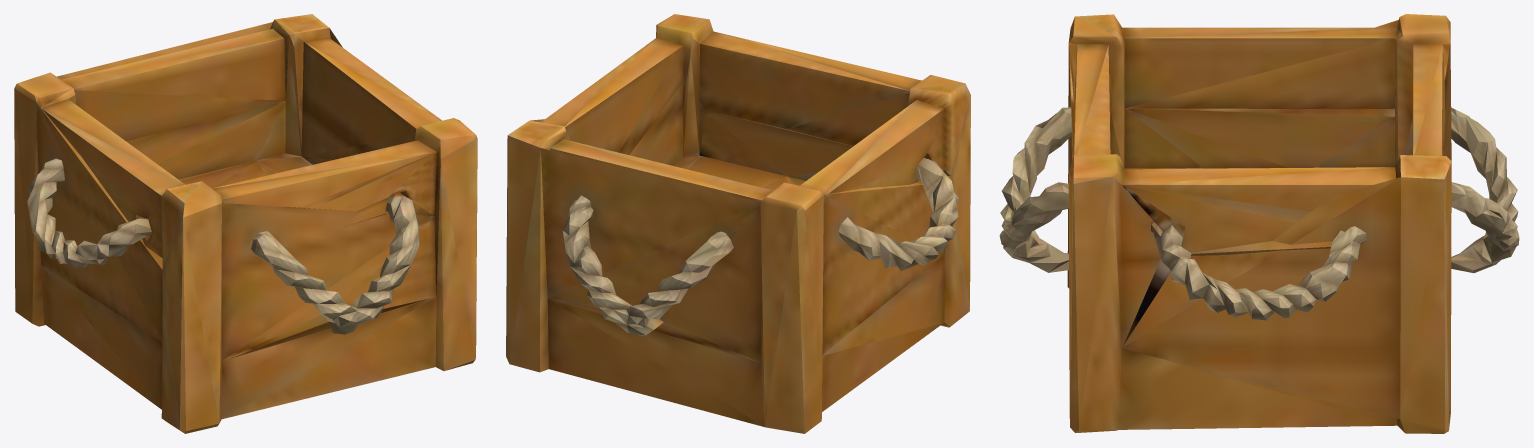
The model's file is crate.low.glb.
3 views of the same model, side by side, from view 1: azimuth 30°, elevation 25°; view 2: azimuth 150°, elevation 25°; view 3: azimuth 270°, elevation 25° (orthographic). The views are drawn at different scales.
Visible parts, largest first — view 1: output_unwrapped; view 2: output_unwrapped; view 3: output_unwrapped.
Part boxes in pixels (bbox=[...]): output_unwrapped: bbox=[14, 14, 477, 433]; output_unwrapped: bbox=[506, 14, 970, 433]; output_unwrapped: bbox=[999, 14, 1519, 433].
Size of the model in its own units: 1.88 by 1.05 by 1.89.
Materials: 1 (1 with a texture image).
